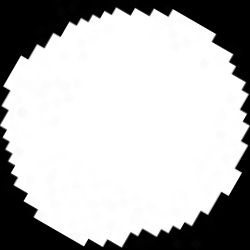spot: (2, 7, 248, 247)
